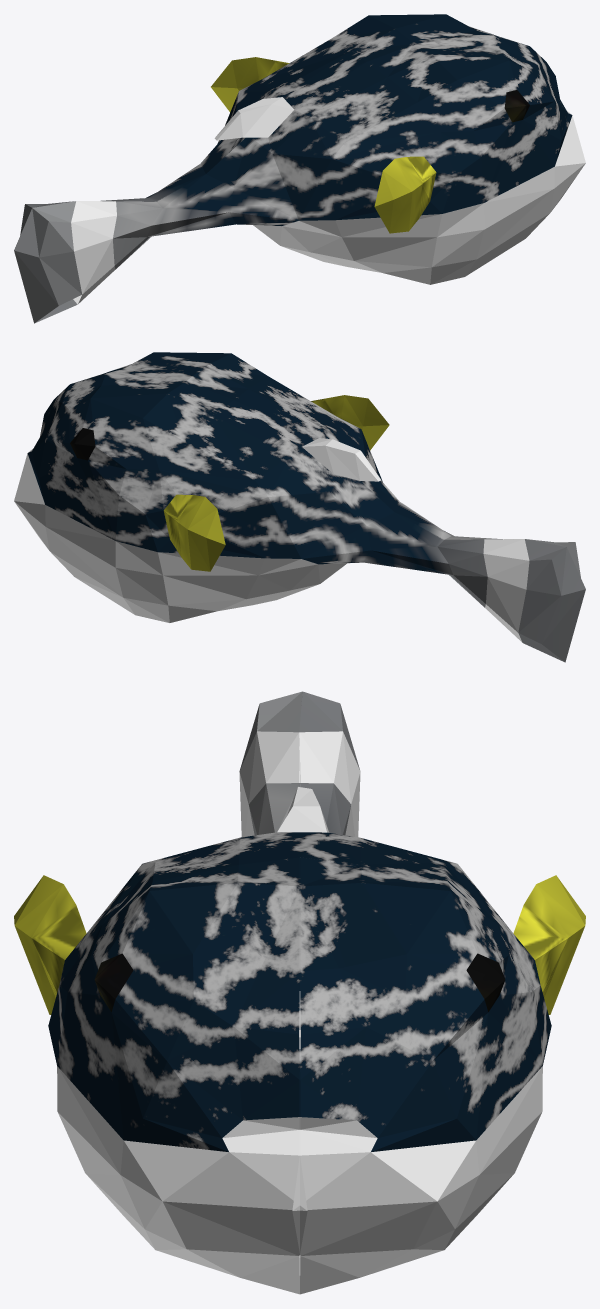
The model's file is Puff2.fbx.
3 views of the same model, one above another, from view 1: azimuth 30°, elevation 25°; view 2: azimuth 150°, elevation 25°; view 3: azimuth 270°, elevation 25° (orthographic). The views are drawn at different scales.
Parts seen in each view (by area): view 1: Cube.001; view 2: Cube.001; view 3: Cube.001.
Part boxes in pixels (left/top/right/bottom): Cube.001: left=14, top=14, right=585, bottom=323; Cube.001: left=14, top=352, right=585, bottom=662; Cube.001: left=14, top=691, right=585, bottom=1294.
Size of the model in its own units: 279 by 108 by 149.
Materials: 5 (3 with a texture image).
